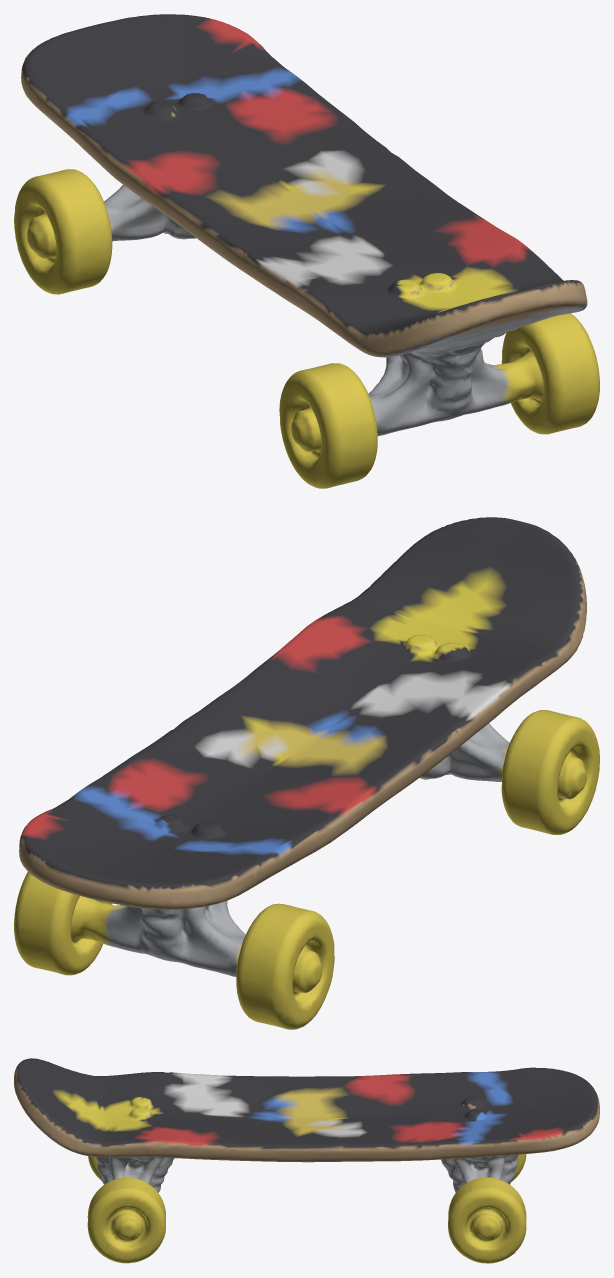
Rendered from skateboard.glb.
The picture shows the model from 3 angles, top to bottom: view 1: azimuth 30°, elevation 25°; view 2: azimuth 150°, elevation 25°; view 3: azimuth 270°, elevation 25°; orthographic projection. The views are drawn at different scales.
Visible parts, largest first — view 1: Skateboard; view 2: Skateboard; view 3: Skateboard.
Part boxes in pixels (x1,y1,x2,y2): Skateboard: [14, 14, 599, 488]; Skateboard: [14, 517, 599, 1029]; Skateboard: [14, 1058, 599, 1263].
Bounding box in the file's own units: 0.3083 × 0.2268 × 0.8024.
